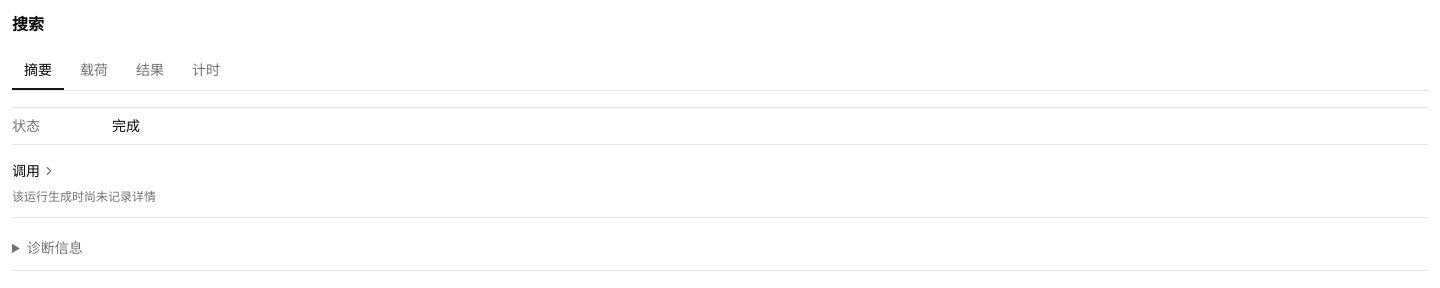
TrajectoryNodeDetailPanel › 工具详情未落账时摘要只给一句说明，完整原因留在对应页签
Expected: the text "该运行生成时尚未记录详情" is shown, [12,188,156,205]
Click the tab "载荷".
click(94, 71)  # box [68,52,120,90]
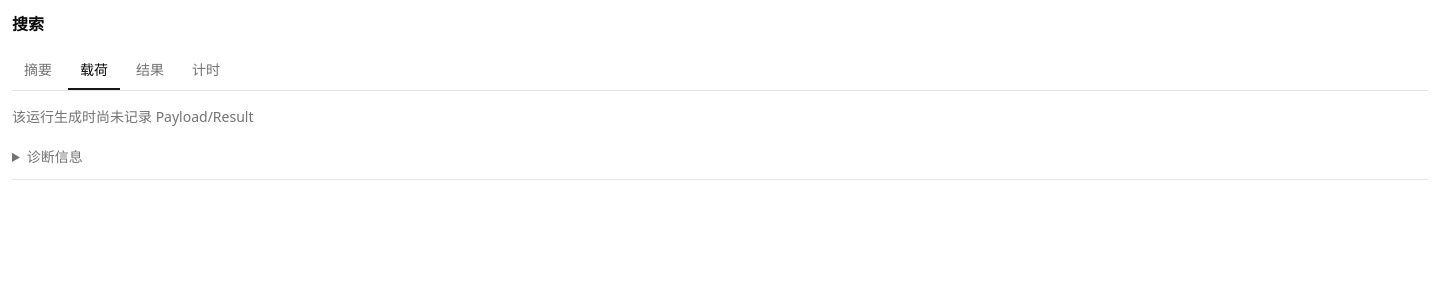
Now the text "该运行生成时尚未记录 Payload/Result" is shown, box [12,107,254,126]
